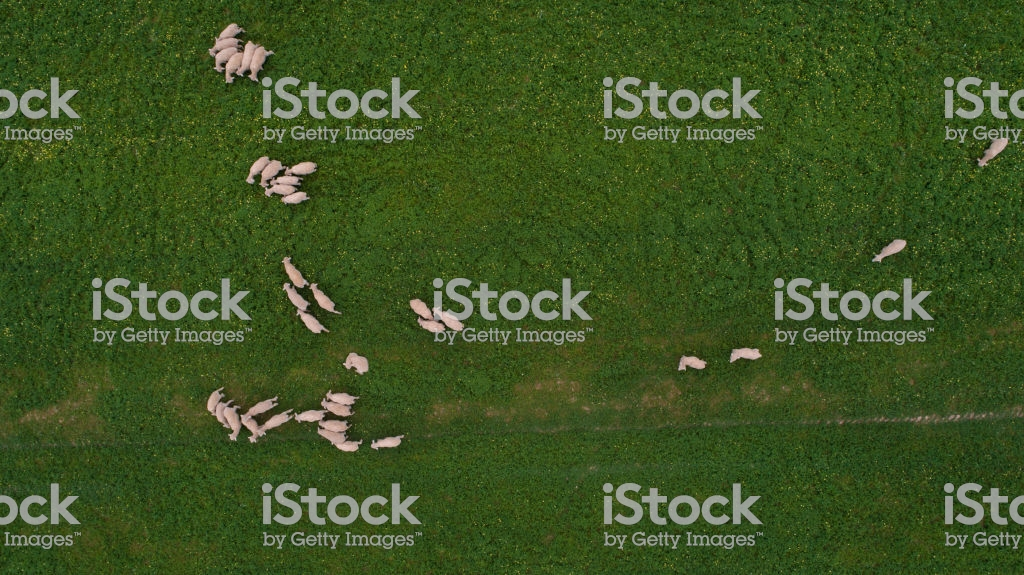sheep: (975, 131, 1013, 169), (258, 406, 298, 436), (307, 281, 339, 316), (247, 44, 275, 83), (872, 238, 910, 265), (295, 307, 329, 337), (280, 255, 309, 290), (242, 395, 278, 422), (281, 282, 310, 312), (432, 306, 464, 331), (235, 40, 256, 77), (320, 397, 354, 419), (342, 350, 368, 378), (213, 46, 239, 73), (208, 38, 243, 58), (728, 345, 762, 365), (223, 51, 243, 85), (226, 405, 242, 446), (238, 414, 259, 445), (370, 432, 406, 450), (246, 155, 269, 183), (324, 389, 360, 406), (315, 427, 349, 445), (678, 354, 708, 374), (330, 438, 365, 454), (295, 409, 329, 425), (316, 417, 350, 433), (284, 160, 318, 176), (260, 161, 282, 185), (415, 318, 445, 334), (217, 399, 231, 432), (206, 386, 220, 416), (281, 190, 309, 203), (263, 186, 295, 197)
